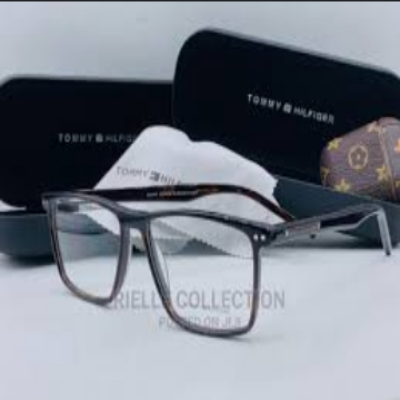glasses: (43, 177, 397, 340)
